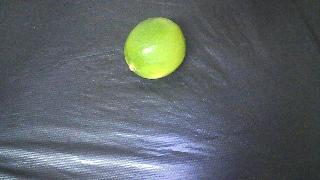LOCAL: (124, 17, 186, 79)
